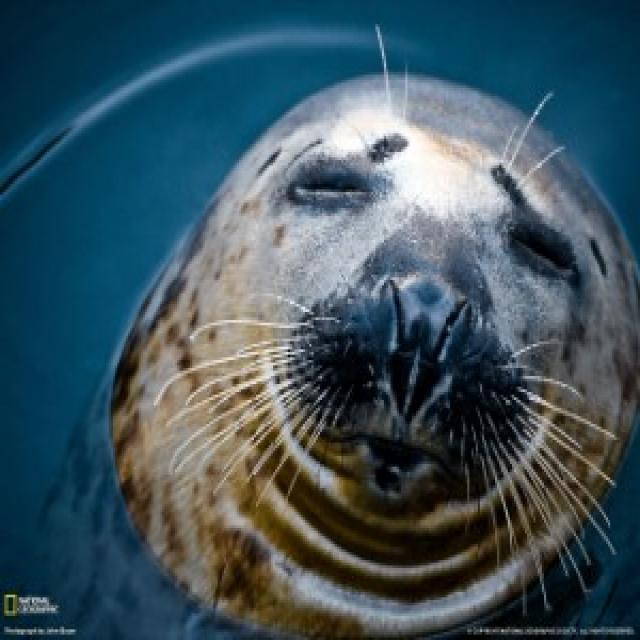Seal: (107, 53, 624, 638)
